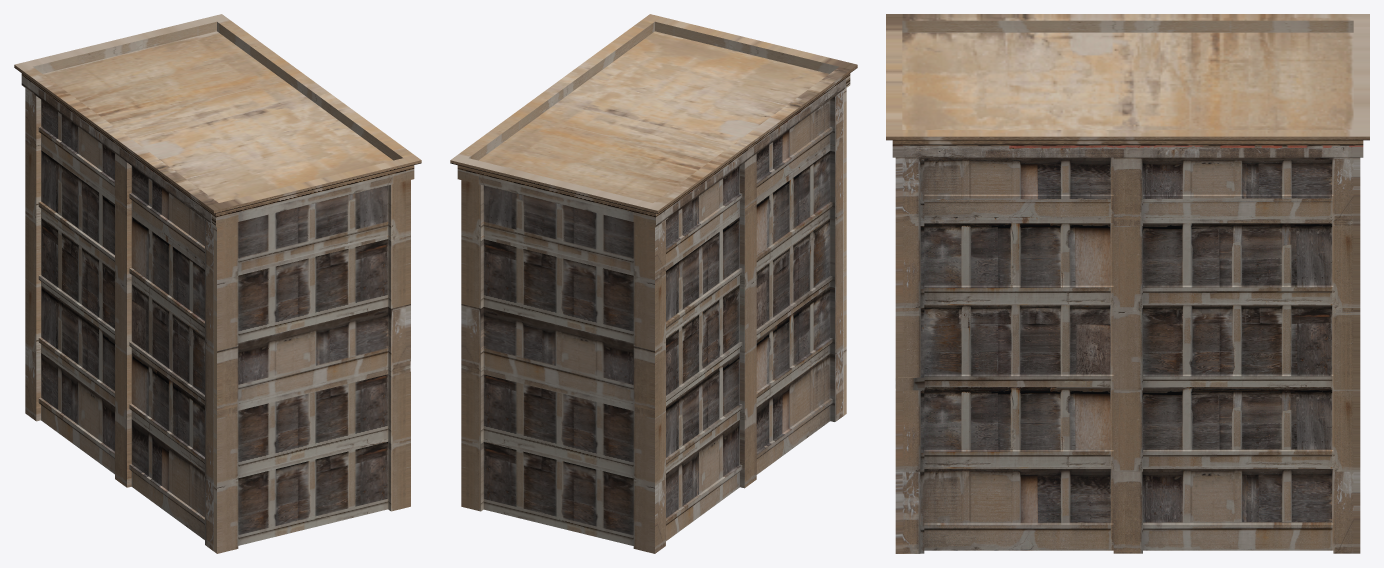
Rendered from OldBuilding.fbx.
3 renders of one model, left to right at view 1: azimuth 30°, elevation 25°; view 2: azimuth 150°, elevation 25°; view 3: azimuth 270°, elevation 25°, orthographic. The views are drawn at different scales.
Parts seen in each view (by area): view 1: Cube; view 2: Cube; view 3: Cube.
Boxes of the visible parts, x1,y1,x2,y2 form: Cube: [14, 14, 421, 553]; Cube: [450, 14, 857, 553]; Cube: [886, 14, 1369, 553].
Size of the model in its own units: 450 by 721 by 750.
